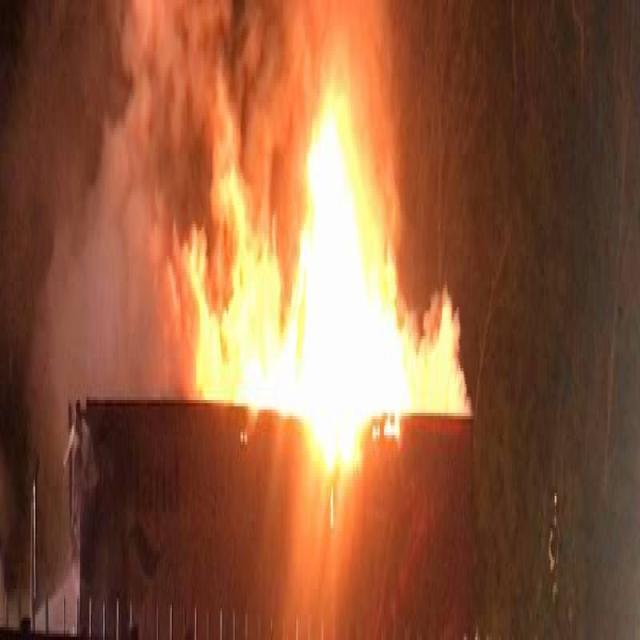Fire: (299, 132, 386, 430), (186, 204, 299, 410), (387, 268, 461, 412)
Smoke: (64, 216, 168, 376)
